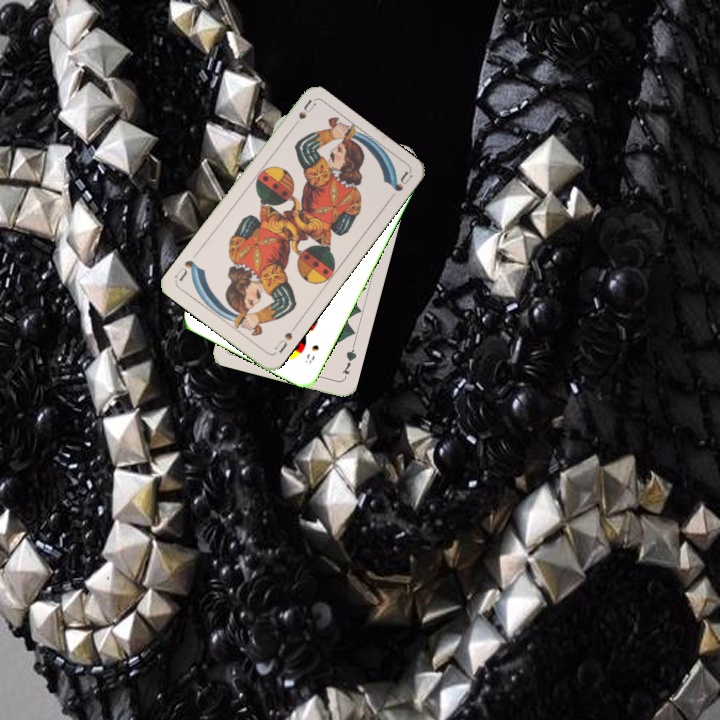G7: (338, 341, 359, 381)
S8: (301, 340, 322, 366)
SU: (286, 96, 318, 133), (271, 322, 299, 356)
